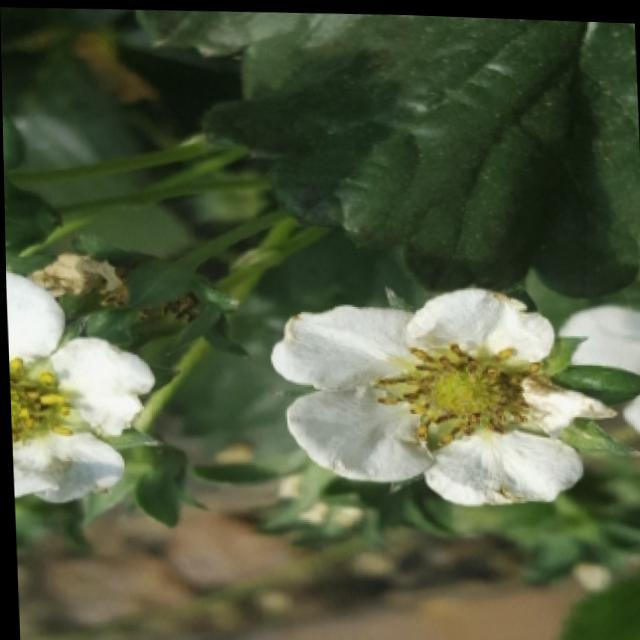Blossom Blight: (366, 327, 550, 451), (7, 353, 85, 456)
